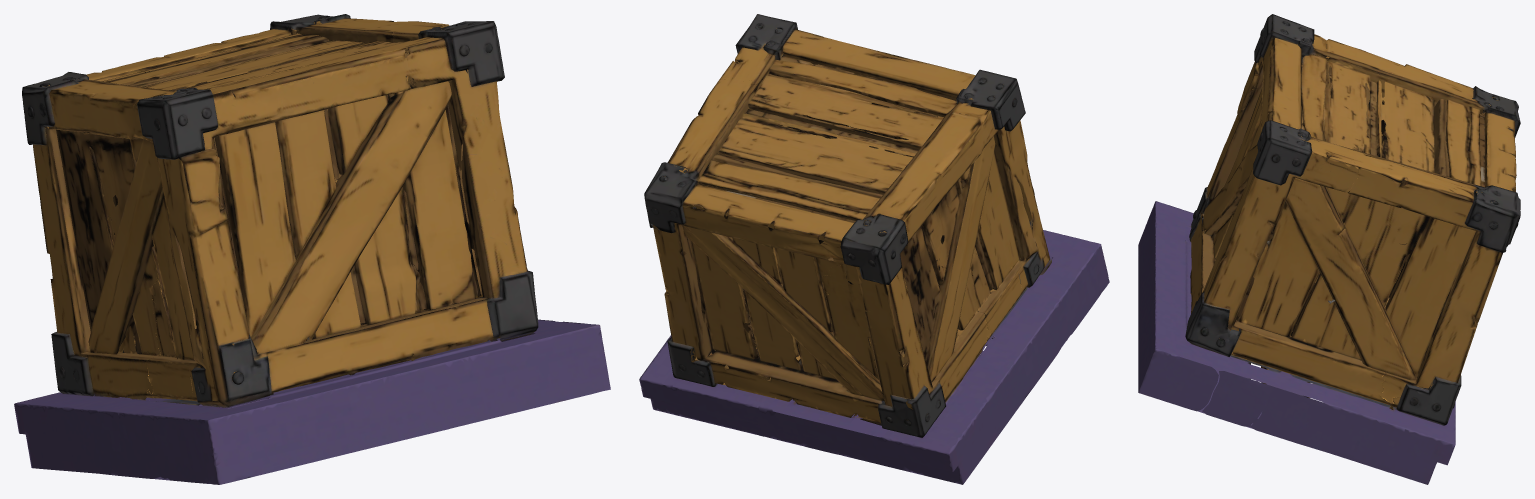
File: lootcrate.glb
The picture shows the model from 3 angles, left to right: view 1: azimuth 30°, elevation 25°; view 2: azimuth 150°, elevation 25°; view 3: azimuth 270°, elevation 25°; orthographic projection. The views are drawn at different scales.
Visible parts, largest first — view 1: world; view 2: world; view 3: world.
Boxes of the visible parts, x1=… form: world: x1=14, y1=14, x2=610, y2=484; world: x1=639, y1=14, x2=1109, y2=484; world: x1=1138, y1=14, x2=1520, y2=484.
Size of the model in its own units: 0.7548 by 0.7956 by 0.821.
1 material, 1 textured.
